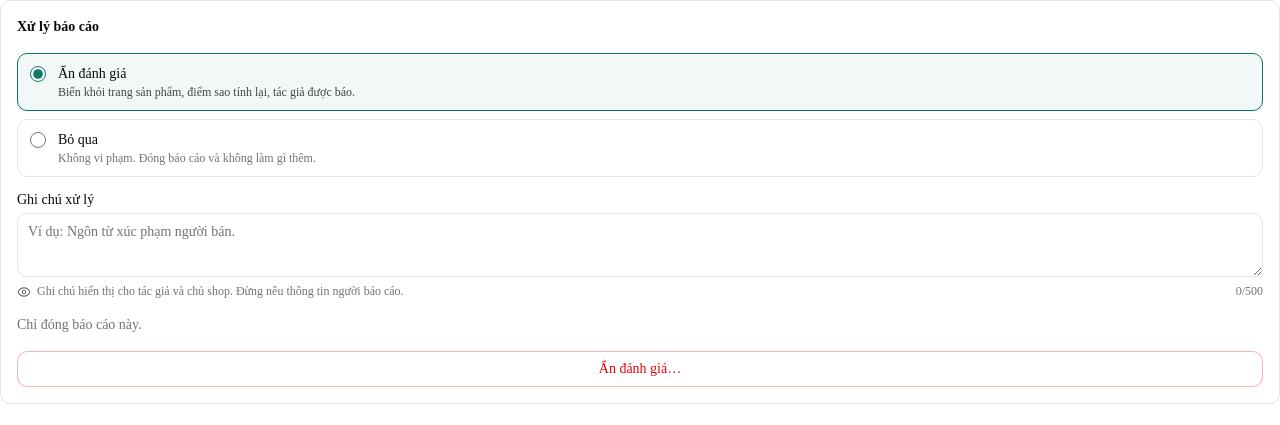
Scenario: AdminReportActionPanel — ghi chú: ai đọc, bắt buộc hay không › hành động huỷ bỏ mà bỏ trống ghi chú ⇒ báo lỗi dưới ô nhập và KHÔNG gửi
Click the button "Ẩn đánh giá…" at (640, 369), box [17,351,1263,387]
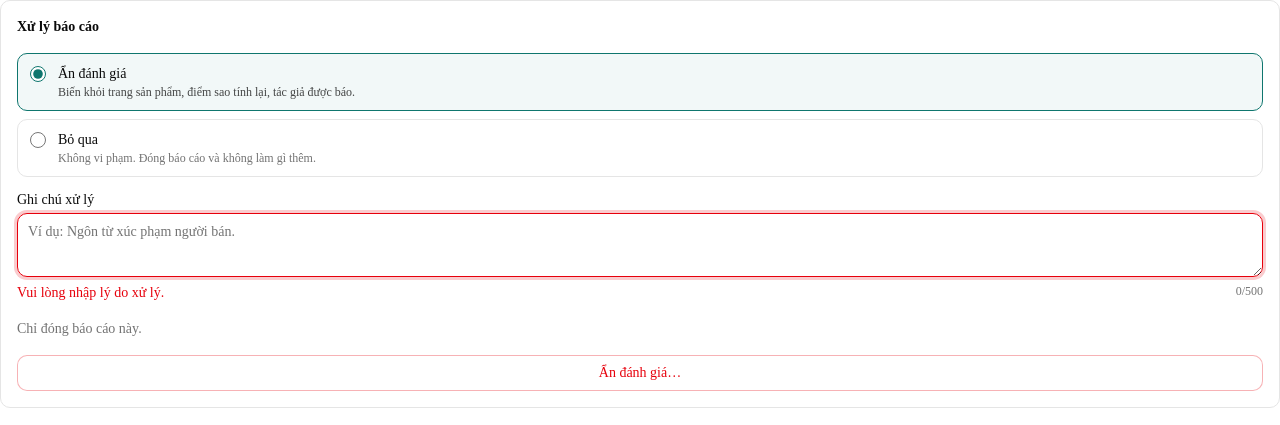
Check: the message reads "Vui lòng nhập lý do xử lý.", box [17,285,164,300]
